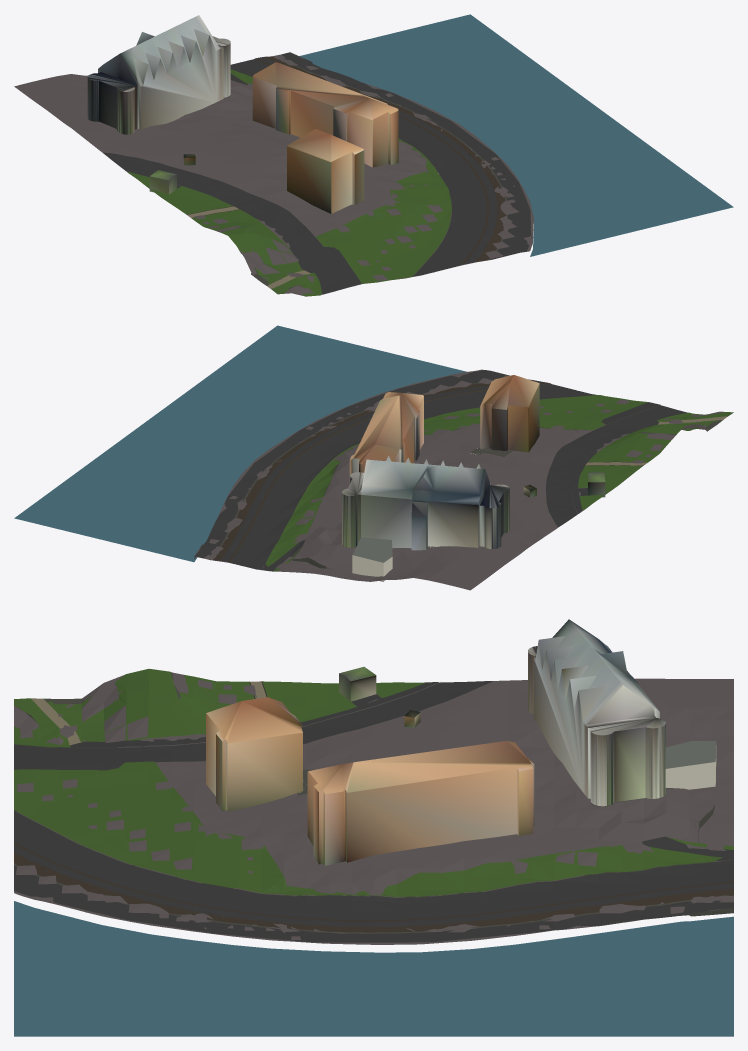
3 renders of one model, top to bottom at view 1: azimuth 30°, elevation 25°; view 2: azimuth 150°, elevation 25°; view 3: azimuth 270°, elevation 25°, orthographic. The views are drawn at different scales.
Parts seen in each view (by area): view 1: c_p04_p11; view 2: c_p04_p11; view 3: c_p04_p11.
Boxes of the visible parts, x1,y1,x2,y2 form: c_p04_p11: (14, 14, 733, 296); c_p04_p11: (14, 325, 733, 590); c_p04_p11: (14, 619, 733, 1036).
Size of the model in its own units: 128 by 28.21 by 128.
